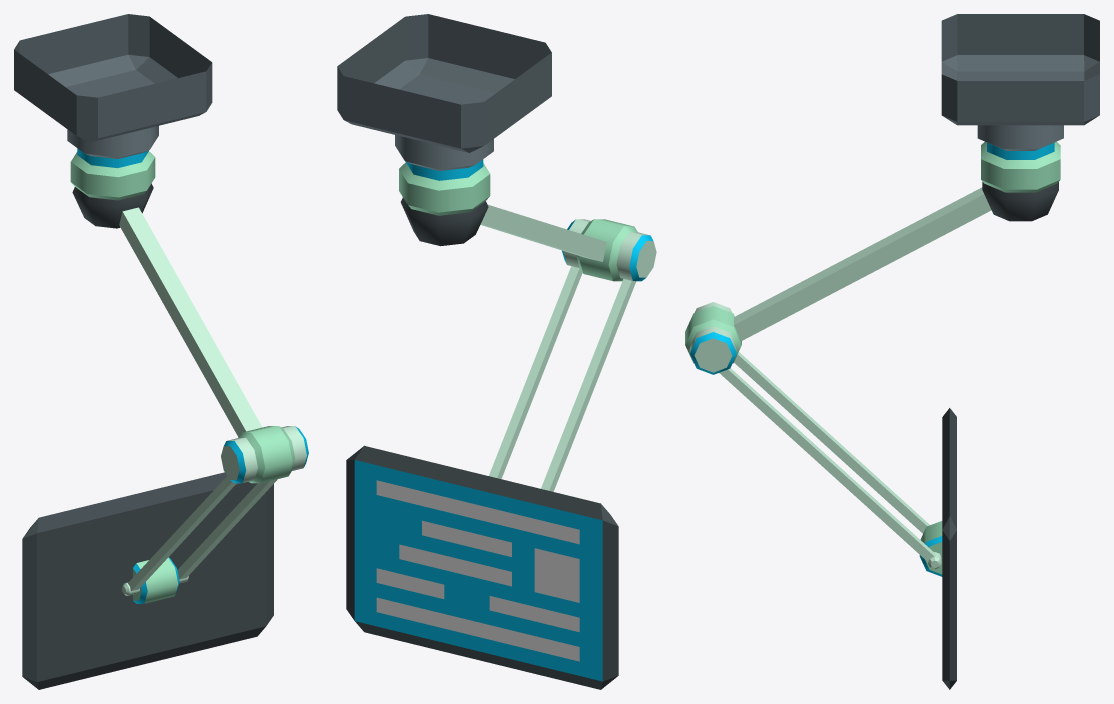
The model's file is Ceiling Screen 01.fbx.
3 renders of one model, left to right at view 1: azimuth 30°, elevation 25°; view 2: azimuth 150°, elevation 25°; view 3: azimuth 270°, elevation 25°, orthographic. The views are drawn at different scales.
Visible parts, largest first — view 1: Monitor, Ceiling_Screen_01; view 2: Monitor, Ceiling_Screen_01; view 3: Monitor, Ceiling_Screen_01.
Boxes of the visible parts, bbox=[...] form: Monitor: bbox=[22, 183, 308, 689]; Ceiling_Screen_01: bbox=[14, 14, 212, 200]; Monitor: bbox=[346, 197, 656, 689]; Ceiling_Screen_01: bbox=[337, 14, 551, 215]; Monitor: bbox=[685, 182, 1058, 689]; Ceiling_Screen_01: bbox=[941, 14, 1099, 192].
Bounding box in the file's own units: 85.39 × 189 × 121.
